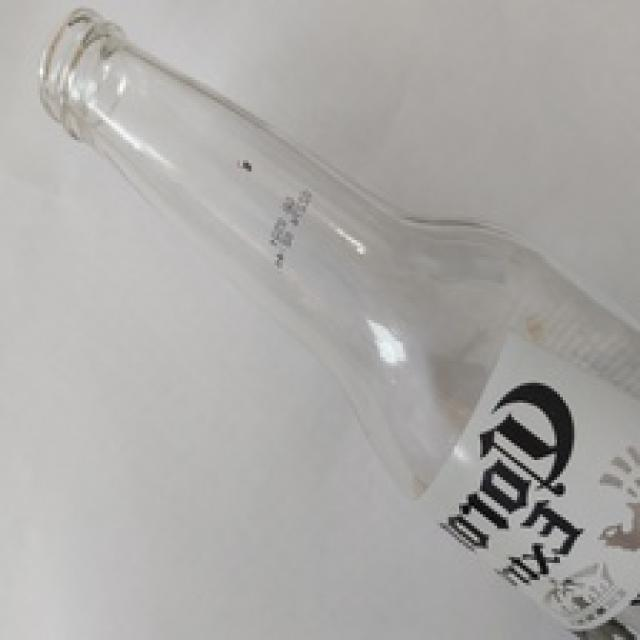glass: (32, 5, 638, 640)
